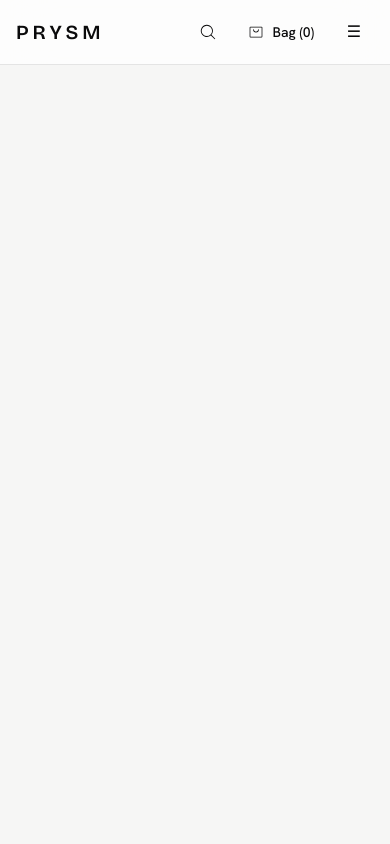
Test case: GlassNav › can open mobile menu sheet with toggle button
Click the button named "Open menu".
click(354, 32)  # box [334,12,374,52]
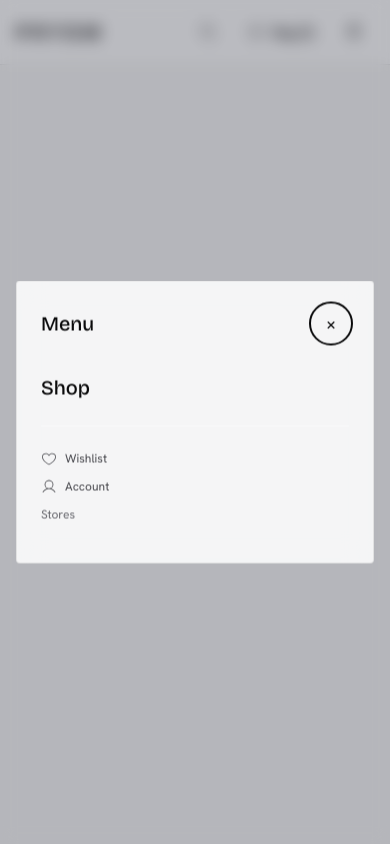
Result: the dialog "Menu" is shown at [16,280,374,564]
